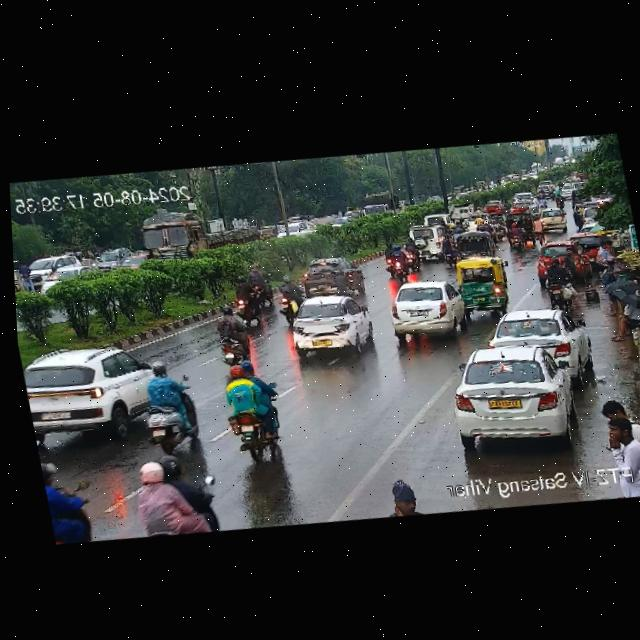car: (19, 334, 176, 449), (441, 333, 584, 453), (278, 288, 380, 365), (488, 301, 591, 376), (377, 277, 468, 349), (451, 251, 514, 316), (20, 246, 102, 295), (292, 250, 366, 303), (528, 234, 592, 292), (407, 221, 458, 267), (454, 230, 498, 263), (535, 208, 568, 234), (509, 191, 537, 213), (480, 199, 506, 220)
motorcycle: (125, 447, 216, 542), (211, 356, 289, 464), (132, 355, 207, 454), (40, 454, 102, 547), (537, 253, 582, 316), (219, 304, 259, 373), (227, 272, 265, 327), (273, 273, 308, 318), (245, 261, 276, 310), (379, 240, 412, 278), (502, 217, 531, 253), (402, 236, 423, 276), (438, 231, 457, 270), (477, 213, 505, 237), (532, 214, 547, 245), (550, 190, 568, 211), (450, 218, 468, 236), (537, 194, 547, 209)
person: (590, 393, 640, 463), (600, 291, 640, 345), (385, 474, 426, 517), (590, 235, 620, 283), (561, 245, 578, 284)
truck: (130, 196, 263, 270), (446, 200, 477, 219), (425, 212, 453, 230)
